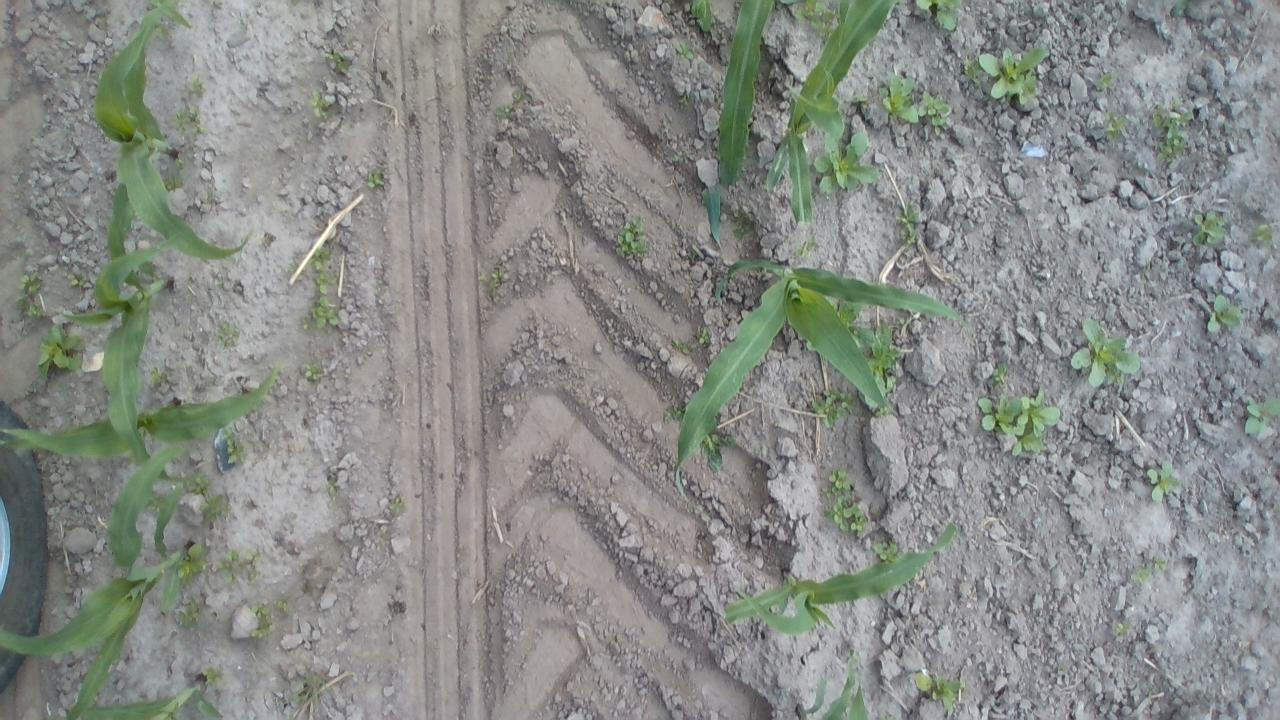Maize: (672, 243, 962, 507), (0, 443, 202, 720), (95, 0, 258, 291), (61, 229, 206, 486), (762, 0, 903, 229), (0, 362, 281, 459), (726, 516, 958, 632), (706, 0, 776, 243), (76, 670, 226, 720), (796, 644, 869, 720), (148, 0, 194, 35)
Weeds: (974, 384, 1064, 460), (1071, 316, 1146, 388), (811, 130, 878, 199), (978, 45, 1046, 108), (1149, 89, 1198, 163), (35, 317, 87, 382), (282, 666, 331, 718), (877, 66, 919, 126), (909, 669, 962, 715), (866, 320, 904, 376), (612, 213, 654, 262), (818, 496, 868, 536), (809, 386, 856, 428), (1240, 390, 1280, 439), (1206, 292, 1244, 342), (1145, 457, 1184, 503), (1190, 206, 1230, 250), (918, 87, 955, 134), (700, 432, 740, 474), (794, 0, 836, 39), (222, 546, 260, 586), (915, 0, 962, 32), (310, 242, 338, 292), (818, 464, 854, 502), (168, 102, 206, 138), (892, 202, 924, 244), (173, 544, 204, 582), (212, 316, 245, 351), (308, 294, 342, 326), (306, 86, 338, 120), (1099, 105, 1130, 140), (732, 204, 757, 246), (170, 598, 203, 628), (219, 425, 244, 464), (688, 0, 715, 36), (478, 265, 506, 299), (1250, 218, 1274, 251), (1126, 561, 1154, 589), (793, 232, 823, 258), (196, 491, 224, 518), (871, 540, 900, 566), (326, 46, 352, 75), (368, 162, 390, 192), (300, 360, 326, 385), (18, 272, 42, 299), (14, 296, 42, 319), (662, 398, 684, 427), (991, 360, 1010, 391), (185, 74, 208, 99), (387, 493, 408, 517), (200, 662, 224, 683), (66, 268, 88, 290), (1169, 0, 1191, 22), (842, 645, 862, 669), (674, 40, 694, 63), (670, 338, 694, 357), (146, 366, 166, 388), (492, 104, 516, 122), (1112, 618, 1133, 638), (249, 621, 271, 640), (959, 56, 978, 78), (1096, 69, 1116, 89), (846, 88, 868, 106), (250, 600, 269, 620), (1050, 659, 1070, 678), (186, 474, 208, 491), (694, 324, 711, 346), (326, 474, 340, 498), (510, 83, 528, 101), (164, 173, 182, 190), (273, 597, 290, 614), (1152, 554, 1167, 570), (172, 149, 185, 167), (874, 406, 890, 418), (281, 258, 286, 282), (678, 94, 687, 106), (1271, 502, 1280, 512), (218, 278, 226, 288)
